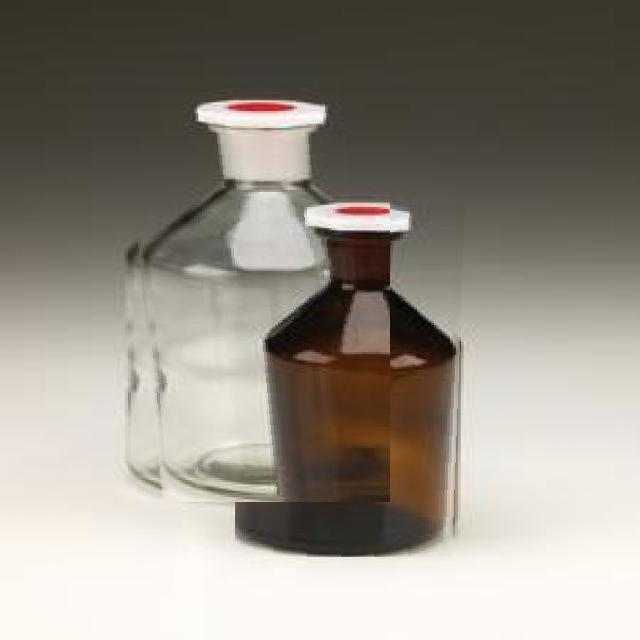Glass: (124, 97, 390, 502), (235, 200, 465, 558)
